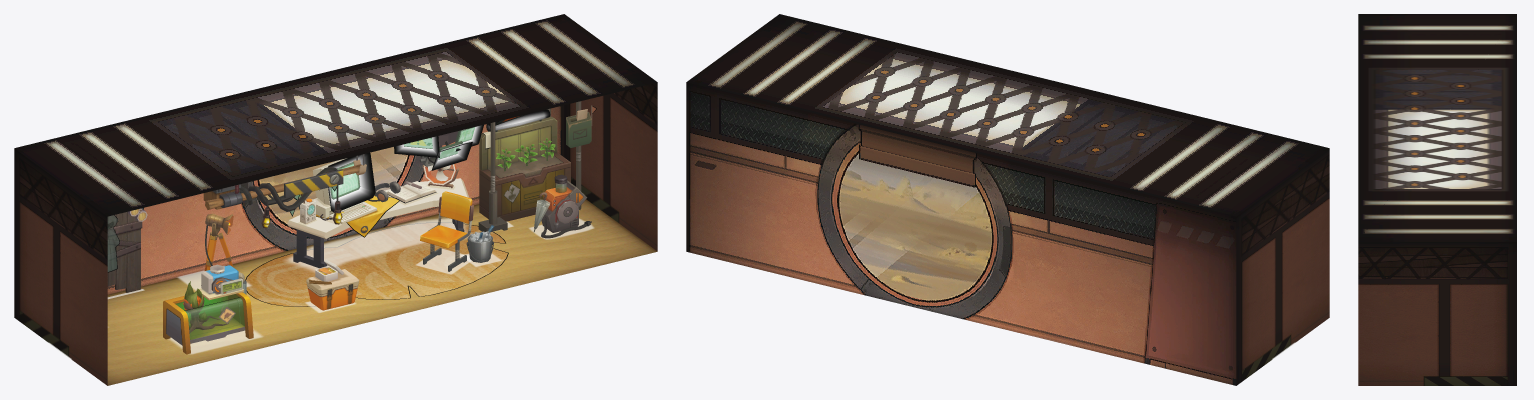
The model's file is observation.glb.
3 views of the same model, side by side, from view 1: azimuth 30°, elevation 25°; view 2: azimuth 150°, elevation 25°; view 3: azimuth 270°, elevation 25° (orthographic). The views are drawn at different scales.
Visible parts, largest first — view 1: ROOM_room, ROOM_floor, furni_observation_carpet_01, furni_observation_cultivationRoom_01, furni_observation_table_01, furni_observation_petriDish_01, furni_observation_ceilingLight_01, shadow_01.006, furni_observation_clothesStand_01, furni_observation_chair_01, furni_observation_machine2_01, furni_observation_incubator_01 (+12 smaller); view 2: ROOM_room, ROOM_LDoor; view 3: ROOM_room, ROOM_RDoor.
Boxes of the visible parts, x1,y1,x2,y2 form: ROOM_room: (14, 14, 657, 385); ROOM_floor: (107, 199, 657, 385); furni_observation_carpet_01: (245, 222, 508, 306); furni_observation_cultivationRoom_01: (478, 101, 592, 233); furni_observation_table_01: (287, 158, 469, 268); furni_observation_petriDish_01: (163, 264, 253, 354); furni_observation_ceilingLight_01: (203, 154, 366, 228); shadow_01.006: (285, 218, 468, 272); furni_observation_clothesStand_01: (107, 208, 147, 292); furni_observation_chair_01: (420, 191, 493, 271); furni_observation_machine2_01: (534, 174, 591, 238); furni_observation_incubator_01: (306, 259, 359, 310); ROOM_room: (686, 14, 1329, 385); ROOM_LDoor: (1297, 251, 1315, 341); ROOM_room: (1358, 14, 1516, 385); ROOM_RDoor: (1381, 320, 1414, 385).
Bounding box in the file's own units: 7.55 × 2.2 × 2.24.
8 materials, 8 textured.
